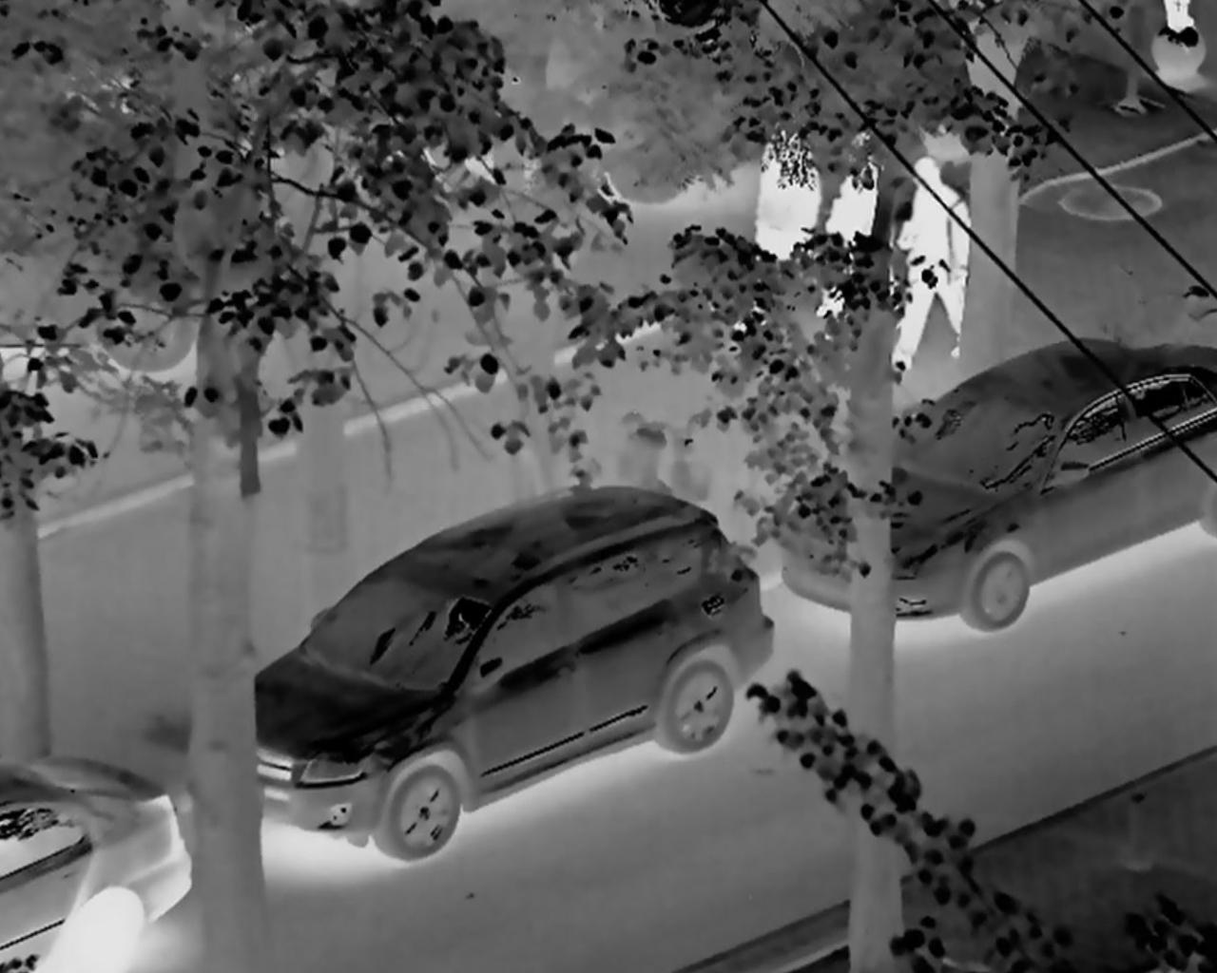person: (728, 97, 826, 318), (904, 151, 976, 391), (826, 129, 893, 327)
